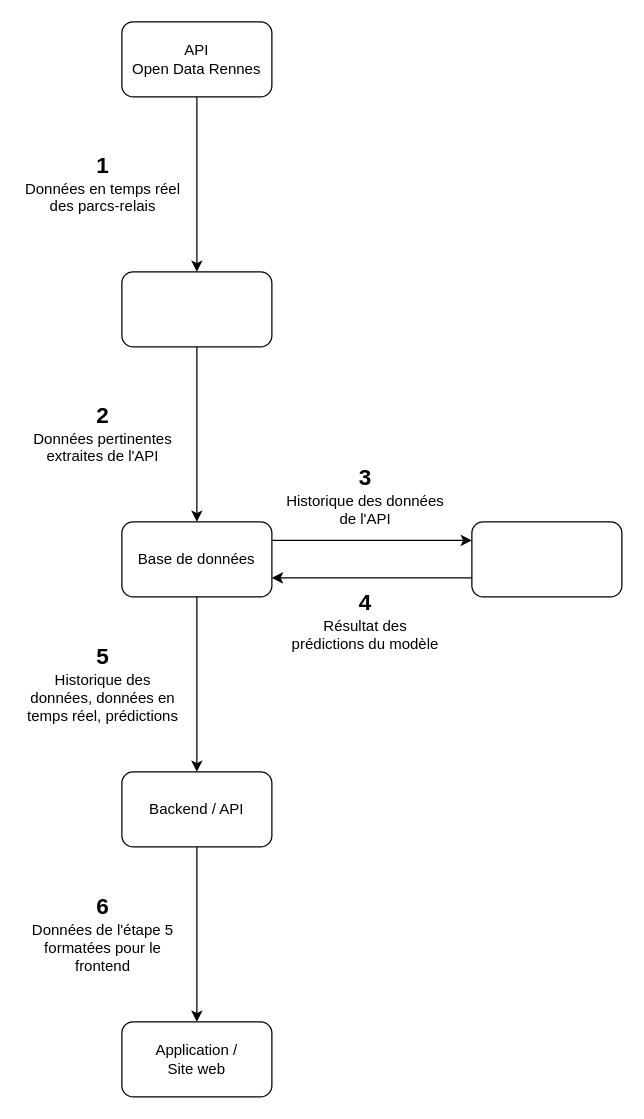
The diagram is 644 pixels wide and 1119 high, and some of its shapes have lost their labels. The shapes that lost their labels are listed below. From the top down, each one's centre as x and y in pixels, then its label:
At point 196,309: "Data crawler".
At point 546,559: "Modèle de prédiction".
